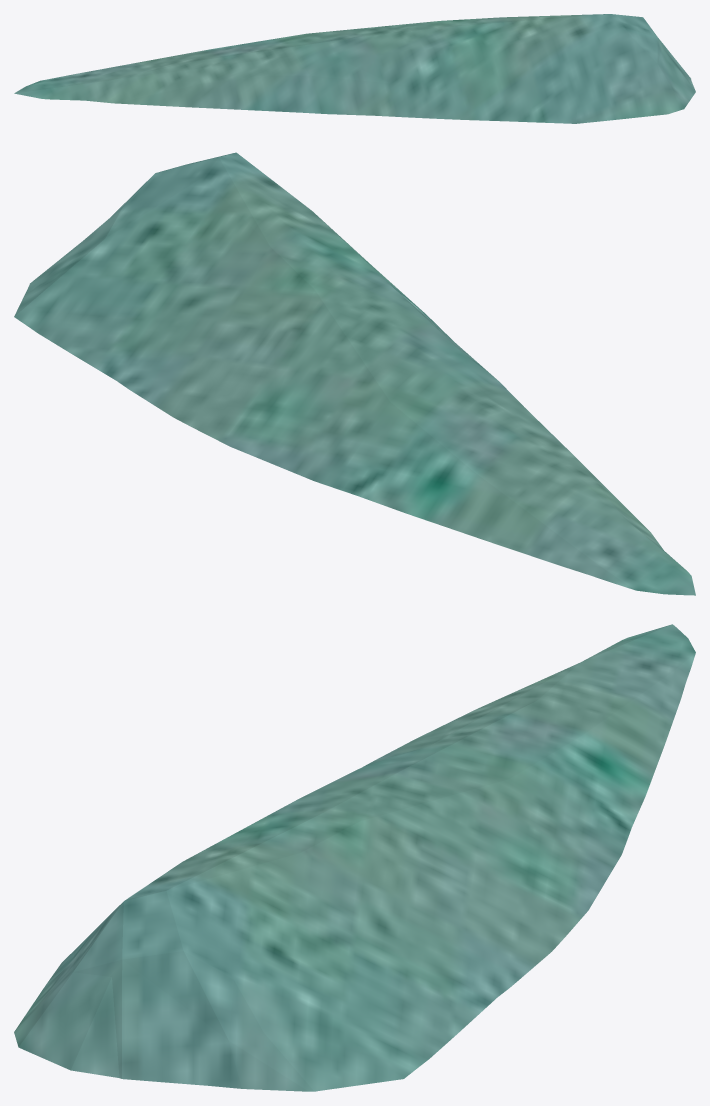
Rendered from Tile_+008_+007_L19_00240.glb.
The picture shows the model from 3 angles, top to bottom: view 1: azimuth 30°, elevation 25°; view 2: azimuth 150°, elevation 25°; view 3: azimuth 270°, elevation 25°; orthographic projection. The views are drawn at different scales.
Visible parts, largest first — view 1: rtc; view 2: rtc; view 3: rtc.
Boxes of the visible parts, bbox=[...] form: rtc: bbox=[14, 14, 695, 123]; rtc: bbox=[14, 152, 695, 595]; rtc: bbox=[14, 624, 695, 1091].
Size of the model in its own units: 14.7 by 1.89 by 9.06.
1 material, 1 textured.
